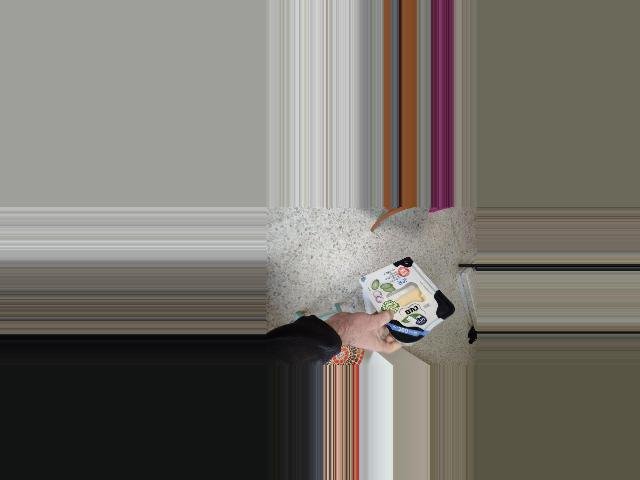cheese: (366, 248, 452, 347)
